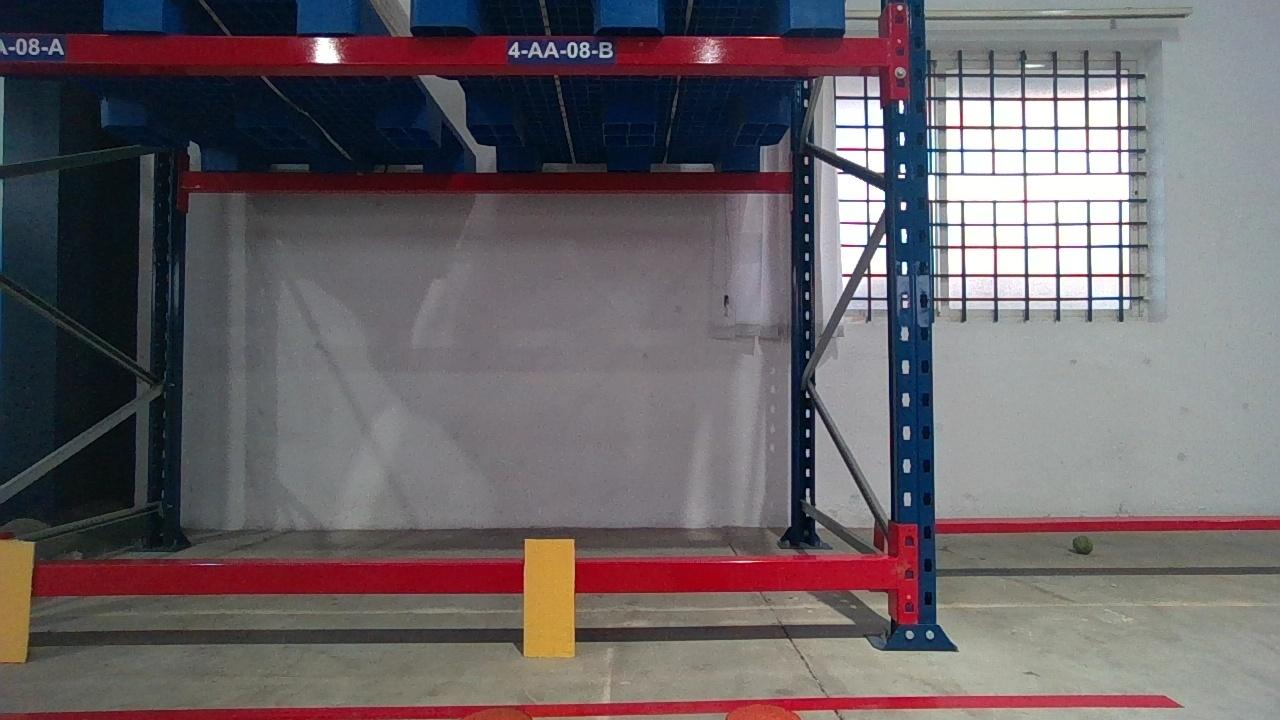h_rack: (33, 556, 898, 596), (4, 32, 908, 66)
orange_strip: (522, 537, 576, 657), (0, 542, 38, 663)
red_line: (2, 688, 1185, 720)
small_pallet: (409, 0, 848, 29), (0, 0, 353, 31)
